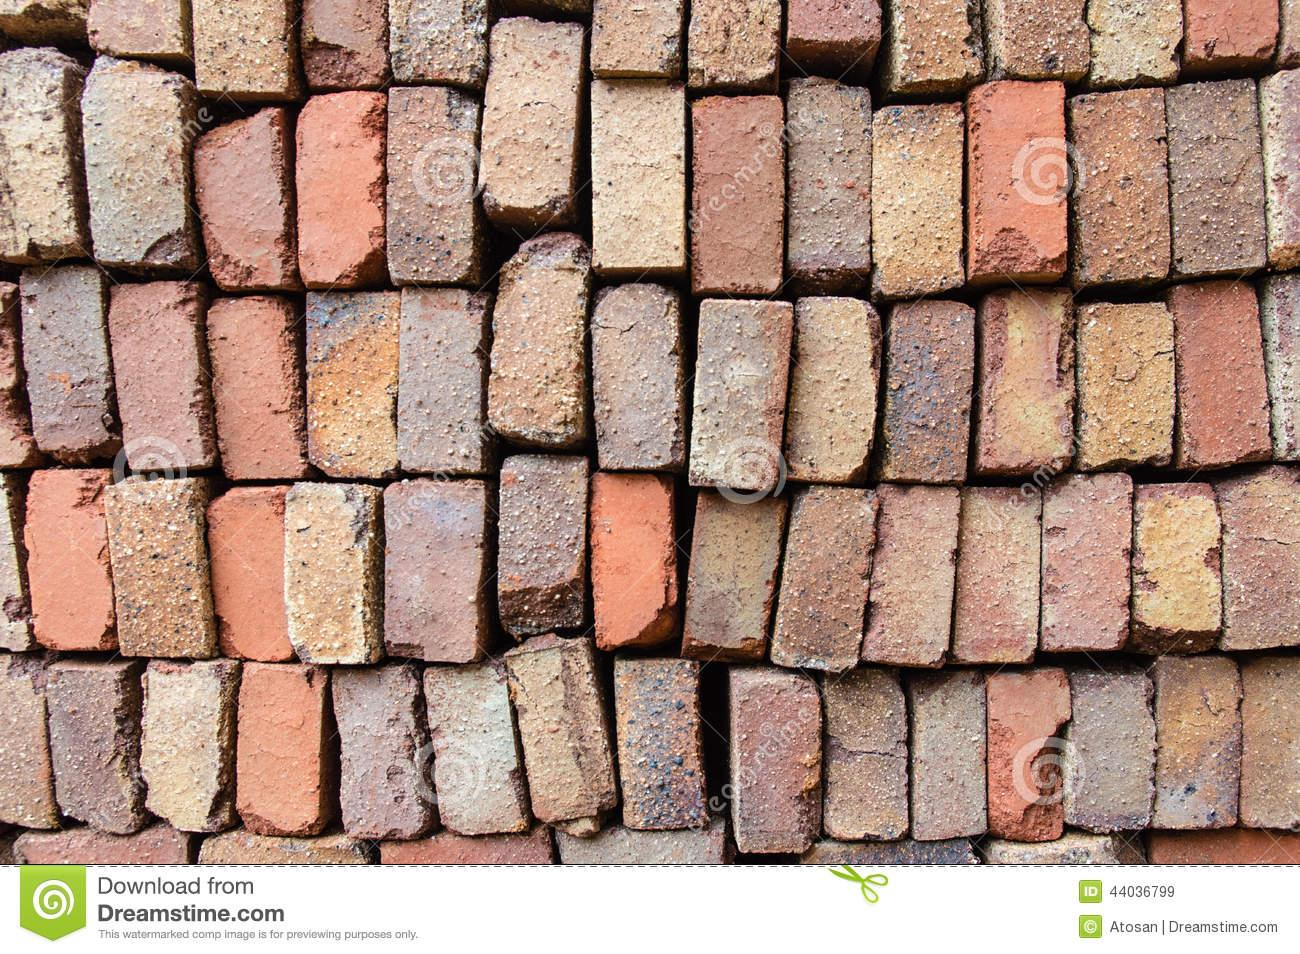brick: (84, 54, 193, 267), (506, 633, 615, 836), (968, 82, 1070, 278), (480, 17, 582, 211), (770, 487, 877, 669), (688, 299, 791, 489), (491, 235, 586, 437), (21, 268, 119, 462), (110, 282, 212, 467), (1168, 78, 1265, 273), (105, 478, 210, 657), (1171, 280, 1272, 466), (385, 480, 485, 663), (206, 297, 306, 479), (196, 107, 297, 286), (388, 87, 481, 279), (1075, 88, 1169, 280), (0, 48, 85, 258), (863, 485, 960, 667), (424, 667, 529, 835), (307, 292, 401, 479), (693, 95, 782, 292), (591, 81, 685, 267), (872, 103, 963, 295), (286, 483, 381, 663), (788, 297, 881, 481), (980, 292, 1075, 471), (682, 494, 787, 654), (592, 284, 683, 468), (297, 93, 385, 284), (399, 289, 490, 471), (141, 661, 238, 832), (615, 658, 710, 830), (787, 76, 869, 275), (884, 301, 974, 482), (24, 467, 114, 648), (334, 668, 429, 838), (1077, 303, 1173, 469), (1042, 473, 1132, 649), (235, 662, 327, 834), (499, 456, 586, 635), (1153, 657, 1241, 829), (1217, 465, 1300, 649), (1065, 670, 1157, 833), (591, 472, 676, 648), (955, 487, 1040, 662), (1133, 483, 1220, 653), (209, 486, 294, 660), (47, 667, 137, 831), (737, 679, 822, 852), (822, 672, 907, 839), (987, 668, 1070, 840), (913, 673, 985, 840), (1242, 658, 1300, 829), (0, 656, 57, 827), (192, 2, 290, 90), (891, 1, 984, 90), (688, 0, 780, 86), (391, 0, 485, 82), (1088, 0, 1182, 81), (300, 0, 385, 84), (999, 1, 1089, 74), (590, 1, 681, 71)
